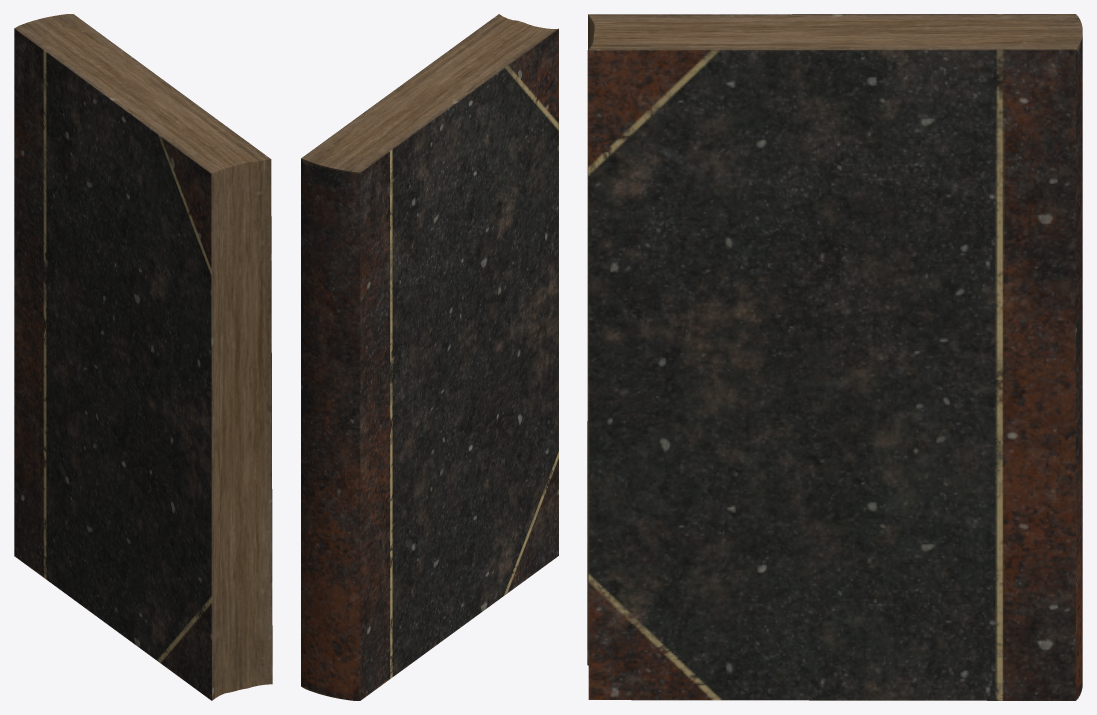
The model's file is Book.fbx.
3 views of the same model, side by side, from view 1: azimuth 30°, elevation 25°; view 2: azimuth 150°, elevation 25°; view 3: azimuth 270°, elevation 25° (orthographic). The views are drawn at different scales.
Visible parts, largest first — view 1: defaultMaterial; view 2: defaultMaterial; view 3: defaultMaterial.
Part boxes in pixels (left/top/right/bottom): defaultMaterial: left=14, top=14, right=272, bottom=700; defaultMaterial: left=301, top=14, right=558, bottom=700; defaultMaterial: left=587, top=14, right=1082, bottom=700.
Size of the model in its own units: 282 by 2310 by 1590.
